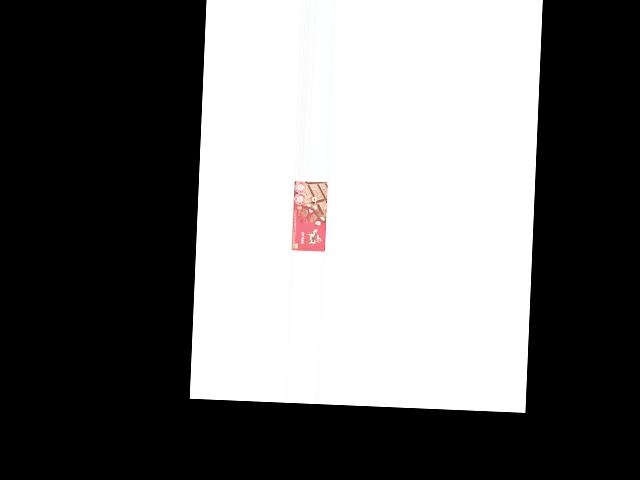chocolate: (290, 180, 328, 252)
